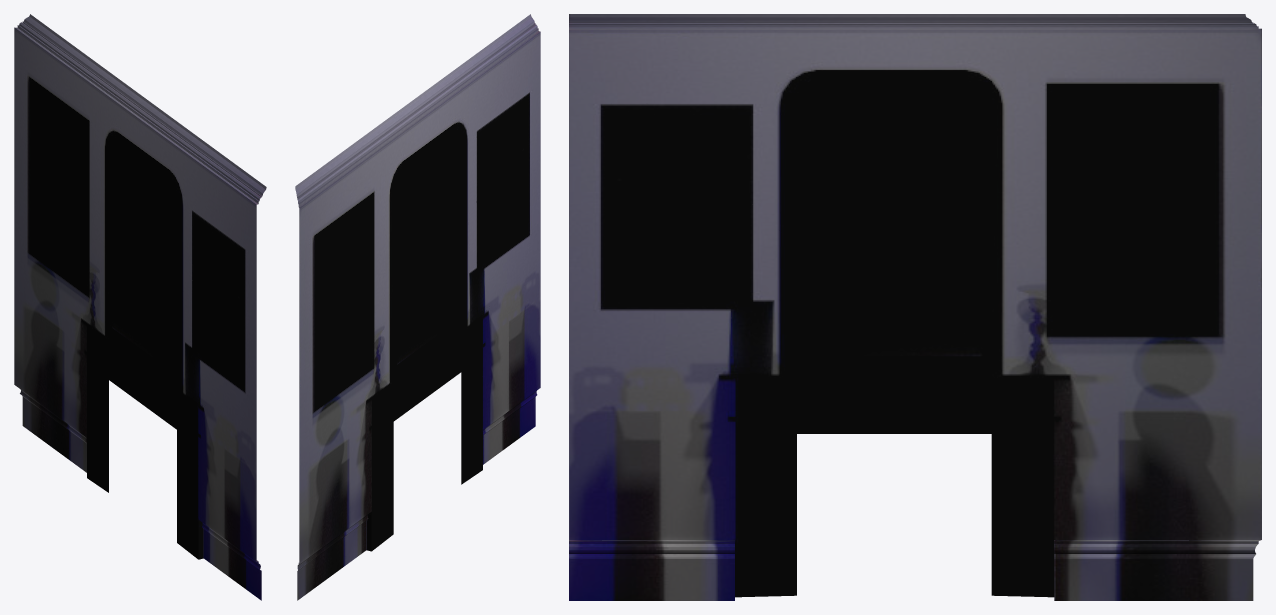
File: wall_left_front.glb
3 renders of one model, left to right at view 1: azimuth 30°, elevation 25°; view 2: azimuth 150°, elevation 25°; view 3: azimuth 270°, elevation 25°, orthographic. The views are drawn at different scales.
Parts seen in each view (by area): view 1: wall_left_front; view 2: wall_left_front; view 3: wall_left_front.
Boxes of the visible parts, box(x1,y1,x2,y2) form: wall_left_front: box(14, 14, 266, 600); wall_left_front: box(295, 14, 540, 600); wall_left_front: box(569, 14, 1261, 600).
Size of the model in its own units: 0.48 by 18.8 by 20.
Materials: 1 (1 with a texture image).
